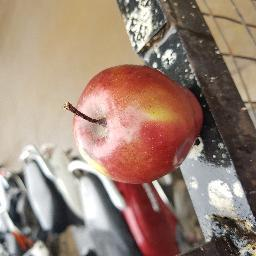Good_apple: (71, 63, 202, 186)
